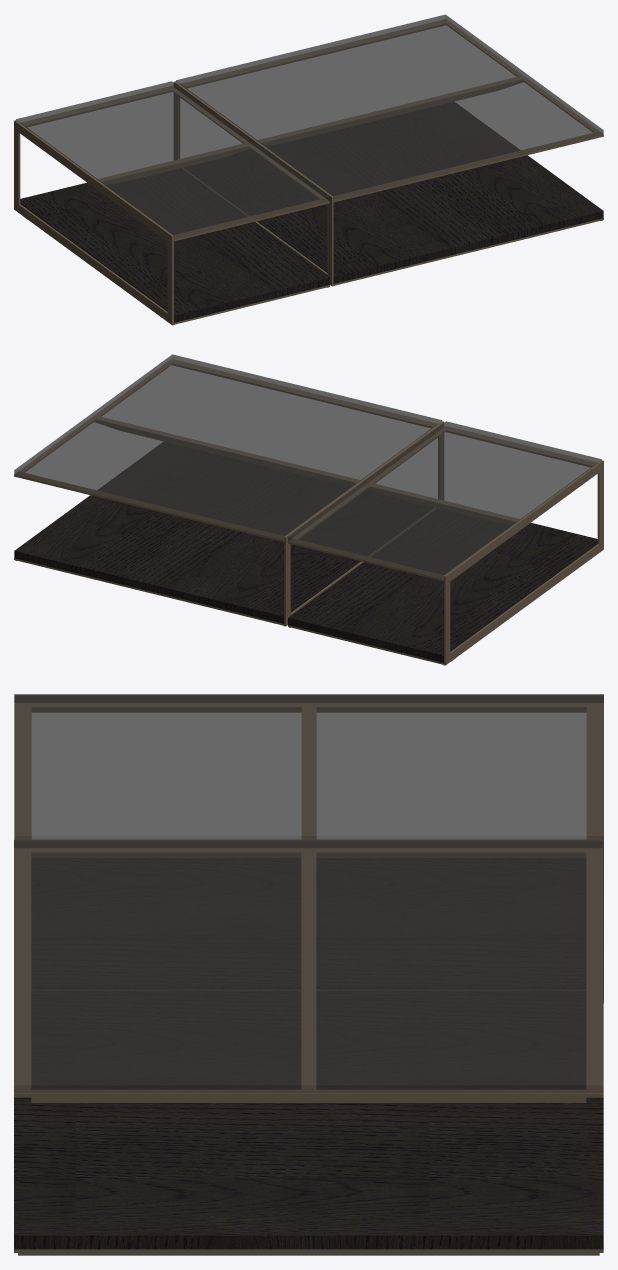
Rendered from Alisee_Coffee_Table.glb.
3 views of the same model, one above another, from view 1: azimuth 30°, elevation 25°; view 2: azimuth 150°, elevation 25°; view 3: azimuth 270°, elevation 25° (orthographic). The views are drawn at different scales.
Parts seen in each view (by area): view 1: Alisee_Coffee_Table_Mesh; view 2: Alisee_Coffee_Table_Mesh; view 3: Alisee_Coffee_Table_Mesh.
Boxes of the visible parts, x1,y1,x2,y2 form: Alisee_Coffee_Table_Mesh: [14, 14, 603, 325]; Alisee_Coffee_Table_Mesh: [14, 354, 603, 665]; Alisee_Coffee_Table_Mesh: [14, 694, 603, 1255].
Bounding box in the file's own units: 1.98 × 0.403 × 1.26.
3 materials, 3 textured.
